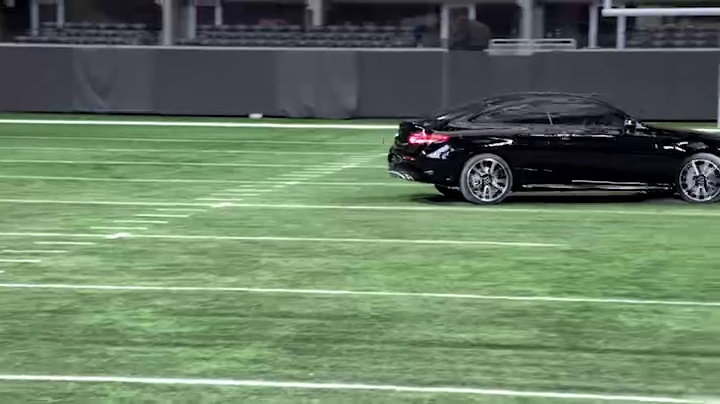amg: (383, 89, 720, 212)
